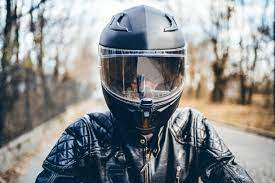helmets: (88, 6, 193, 133)
